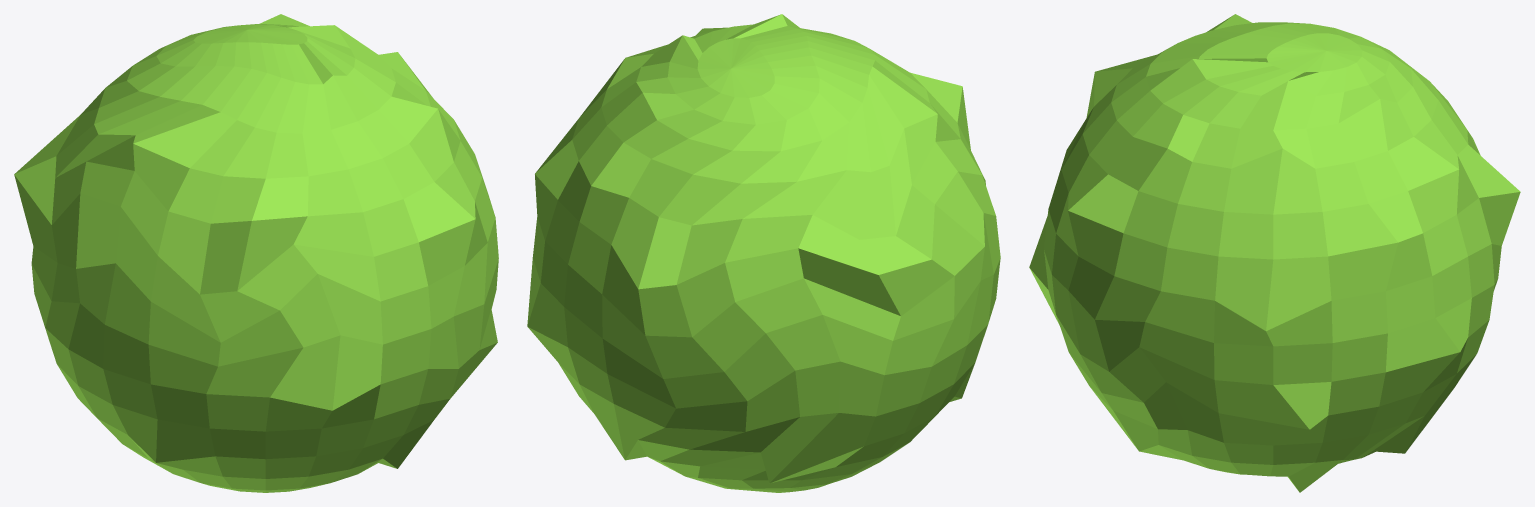
Rendered from Planet8.glb.
The picture shows the model from 3 angles, left to right: view 1: azimuth 30°, elevation 25°; view 2: azimuth 150°, elevation 25°; view 3: azimuth 270°, elevation 25°; orthographic projection. The views are drawn at different scales.
Visible parts, largest first — view 1: Planet8; view 2: Planet8; view 3: Planet8.
Boxes of the visible parts, x1,y1,x2,y2 form: Planet8: [14, 14, 498, 492]; Planet8: [527, 14, 1000, 492]; Planet8: [1029, 14, 1520, 492].
Size of the model in its own units: 10.98 by 10.95 by 11.57.
1 material, 1 textured.
